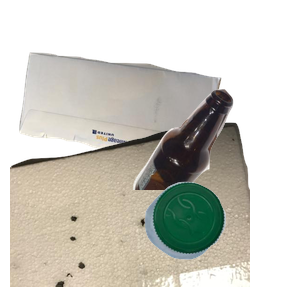glass: (130, 87, 300, 267)
paper: (17, 50, 231, 230)
plastic: (142, 179, 300, 300)
trash: (10, 120, 250, 300)
